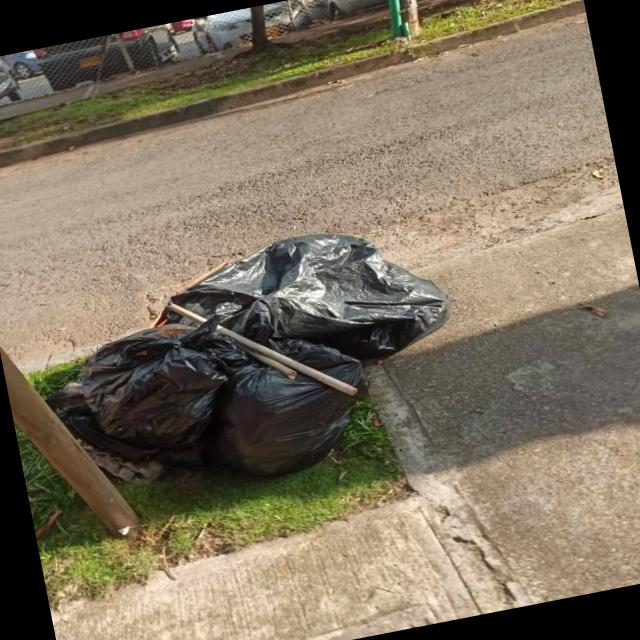high trash: (50, 234, 449, 475)
